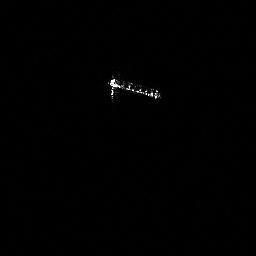ship: (105, 71, 163, 106)
